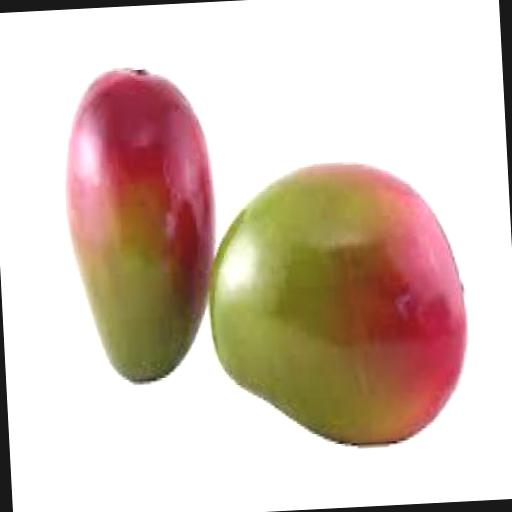biodegradable: (204, 153, 475, 453), (60, 58, 224, 388)
